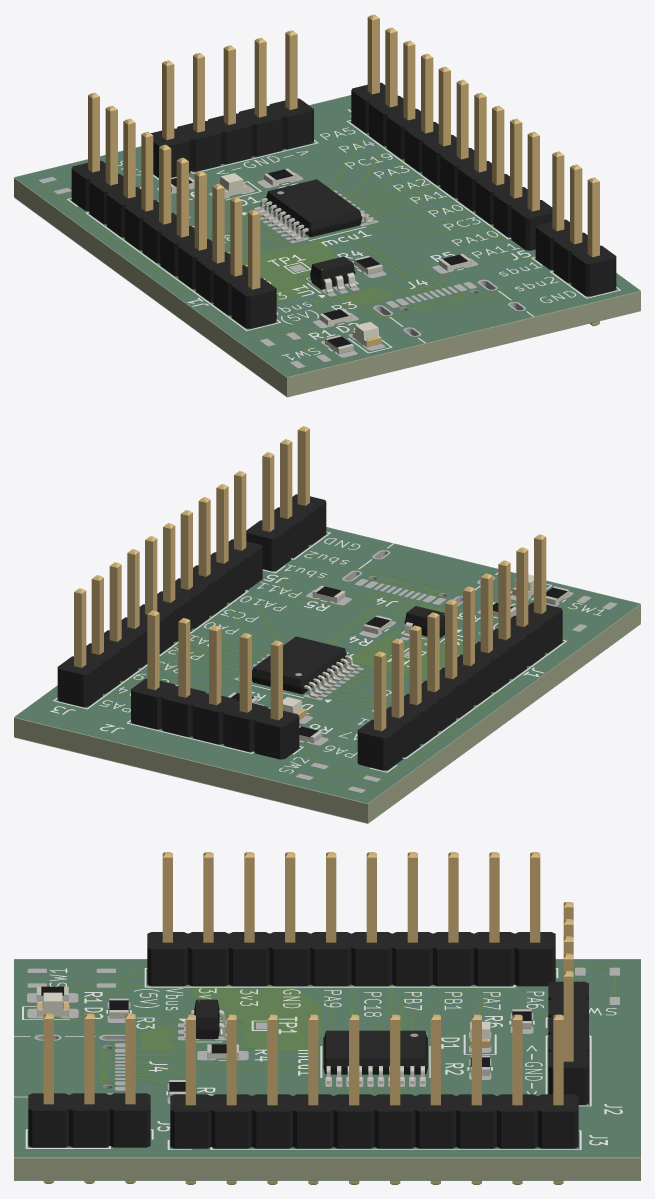
File: 3dModel.glb
3 views of the same model, one above another, from view 1: azimuth 30°, elevation 25°; view 2: azimuth 150°, elevation 25°; view 3: azimuth 270°, elevation 25° (orthographic). The views are drawn at different scales.
Parts seen in each view (by area): view 1: =>[0:1:1:23], =>[0:1:1:25], =>[0:1:1:11] (×2), =>[0:1:1:9], =>[0:1:1:15], =>[0:1:1:18], =>[0:1:1:21], =>[0:1:1:13], =>[0:1:1:19], =>[0:1:1:5], =>[0:1:1:24], =>[0:1:1:7]; view 2: =>[0:1:1:25], =>[0:1:1:23], =>[0:1:1:11] (×2), =>[0:1:1:9], =>[0:1:1:15], =>[0:1:1:21], =>[0:1:1:18], =>[0:1:1:13], =>[0:1:1:19], =>[0:1:1:24], =>[0:1:1:5]; view 3: =>[0:1:1:11] (×2), =>[0:1:1:23], =>[0:1:1:25], =>[0:1:1:15], =>[0:1:1:18], =>[0:1:1:21], =>[0:1:1:9], =>[0:1:1:13], =>[0:1:1:19], =>[0:1:1:5], =>[0:1:1:7], =>[0:1:1:24].
Boxes of the visible parts, bbox=[...] form: =>[0:1:1:23]: bbox=[14, 95, 640, 376]; =>[0:1:1:25]: bbox=[14, 96, 640, 396]; =>[0:1:1:11] (×2): bbox=[71, 14, 552, 328]; =>[0:1:1:9]: bbox=[151, 30, 313, 177]; =>[0:1:1:15]: bbox=[535, 151, 616, 326]; =>[0:1:1:18]: bbox=[42, 135, 558, 357]; =>[0:1:1:21]: bbox=[67, 109, 620, 360]; =>[0:1:1:13]: bbox=[253, 179, 373, 241]; =>[0:1:1:19]: bbox=[39, 173, 525, 368]; =>[0:1:1:5]: bbox=[308, 256, 356, 293]; =>[0:1:1:24]: bbox=[14, 197, 640, 397]; =>[0:1:1:7]: bbox=[352, 322, 381, 347]; =>[0:1:1:25]: bbox=[14, 528, 640, 823]; =>[0:1:1:23]: bbox=[14, 527, 640, 803]; =>[0:1:1:11] (×2): bbox=[57, 471, 562, 770]; =>[0:1:1:9]: bbox=[131, 610, 299, 759]; =>[0:1:1:15]: bbox=[246, 426, 326, 571]; =>[0:1:1:21]: bbox=[50, 531, 604, 773]; =>[0:1:1:18]: bbox=[106, 554, 579, 789]; =>[0:1:1:13]: bbox=[239, 636, 359, 698]; =>[0:1:1:19]: bbox=[227, 550, 617, 792]; =>[0:1:1:24]: bbox=[14, 624, 640, 823]; =>[0:1:1:5]: bbox=[403, 606, 444, 642]; =>[0:1:1:11] (×2): bbox=[147, 852, 578, 1184]; =>[0:1:1:23]: bbox=[14, 959, 640, 1157]; =>[0:1:1:25]: bbox=[14, 960, 640, 1180]; =>[0:1:1:15]: bbox=[28, 1013, 150, 1183]; =>[0:1:1:18]: bbox=[35, 965, 615, 1130]; =>[0:1:1:21]: bbox=[14, 968, 622, 1149]; =>[0:1:1:9]: bbox=[548, 902, 588, 1104]; =>[0:1:1:13]: bbox=[323, 1030, 427, 1083]; =>[0:1:1:19]: bbox=[27, 967, 619, 1104]; =>[0:1:1:5]: bbox=[184, 999, 226, 1039]; =>[0:1:1:7]: bbox=[37, 992, 68, 1017]; =>[0:1:1:24]: bbox=[14, 1180, 640, 1180].
Bounding box in the file's own units: 0.0292 × 0.0115 × 0.039.
